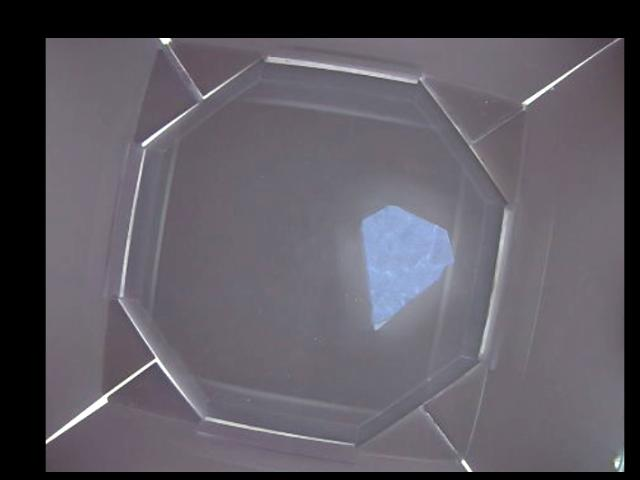China: (359, 203, 456, 329)
